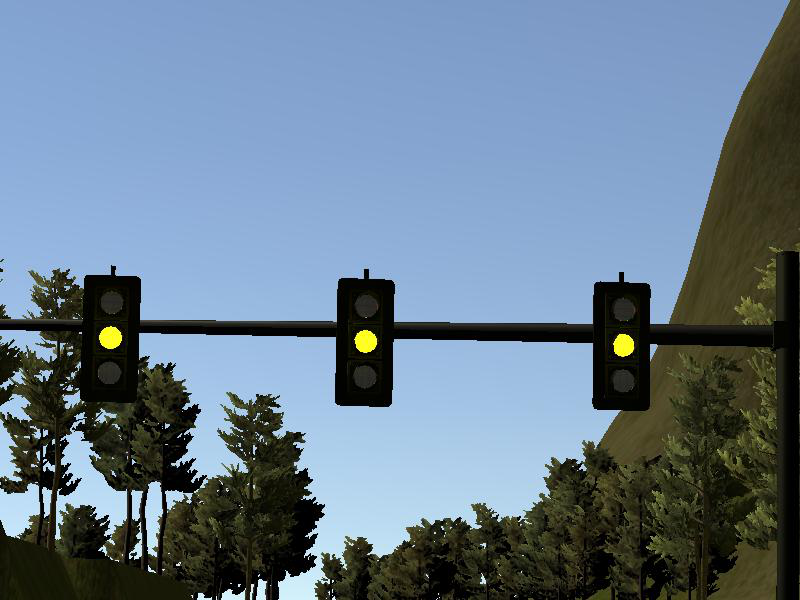yellow: (592, 282, 650, 411), (337, 276, 393, 408), (83, 277, 141, 401)
